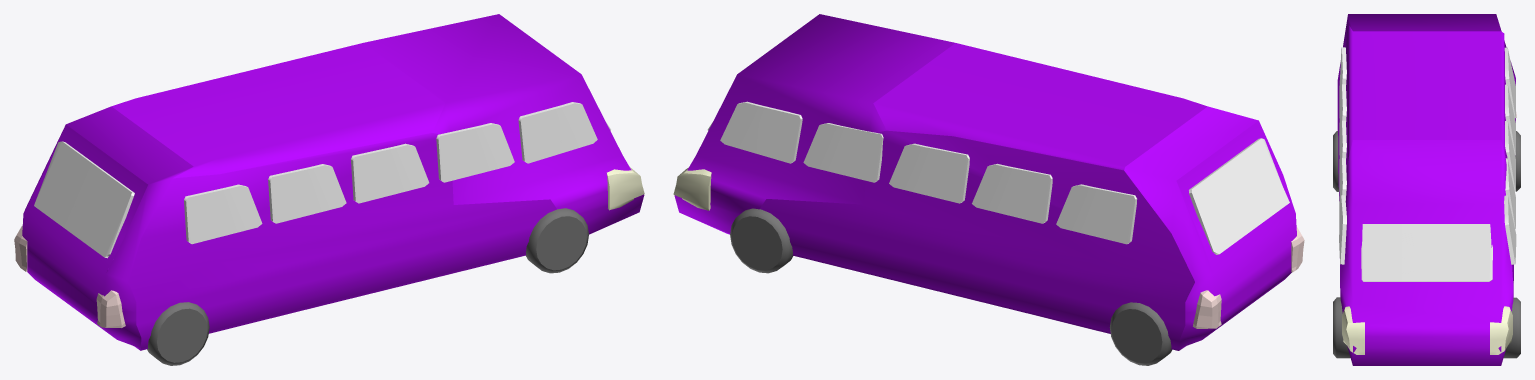
The model's file is CarroMorado.fbx.
3 renders of one model, left to right at view 1: azimuth 30°, elevation 25°; view 2: azimuth 150°, elevation 25°; view 3: azimuth 270°, elevation 25°, orthographic. The views are drawn at different scales.
Visible parts, largest first — view 1: pCube1, pCube10, pCube8, pCube13, pCube14, pCube12, pasted__pCube8, pCylinder1, pCylinder2, pCube11, pCube9; view 2: pCube1, pCube10, pasted__pasted__pCube12, pasted__pCube17, pasted__pCube15, pasted__pCube16, pasted__pCube12, pCylinder3, pCylinder4, pCube11, pCube9; view 3: pCube1, pCube6, pCube9, pCylinder1, pCylinder3, pasted__pasted__pCube12, pasted__pCube8, pasted__pCube17, pasted__pCube15, pasted__pCube16, pasted__pCube12, pCylinder2 (+5 smaller).
Boxes of the visible parts, x1,y1,x2,y2 form: pCube1: [22, 14, 644, 350]; pCube10: [34, 141, 134, 258]; pCube8: [436, 123, 514, 182]; pCube13: [268, 164, 346, 223]; pCube14: [184, 184, 262, 244]; pCube12: [351, 143, 429, 203]; pasted__pCube8: [518, 102, 597, 163]; pCylinder1: [526, 208, 588, 273]; pCylinder2: [147, 302, 209, 365]; pCube11: [14, 226, 125, 327]; pCube9: [606, 167, 644, 210]; pCube1: [674, 14, 1296, 350]; pCube10: [1189, 138, 1289, 254]; pasted__pasted__pCube12: [720, 101, 802, 163]; pasted__pCube17: [1056, 184, 1137, 244]; pasted__pCube15: [889, 143, 969, 203]; pasted__pCube16: [972, 163, 1052, 223]; pasted__pCube12: [803, 123, 883, 182]; pCylinder3: [730, 208, 793, 273]; pCylinder4: [1109, 302, 1172, 365]; pCube11: [1193, 227, 1304, 328]; pCube9: [673, 167, 711, 210]; pCube1: [1337, 14, 1515, 365]; pCube6: [1361, 224, 1492, 281]; pCube9: [1342, 306, 1512, 354]; pCylinder1: [1333, 297, 1350, 358]; pCylinder3: [1503, 297, 1520, 358]; pasted__pasted__pCube12: [1504, 195, 1516, 264]; pasted__pCube8: [1339, 195, 1346, 264]; pasted__pCube17: [1504, 47, 1515, 118]; pasted__pCube15: [1505, 120, 1515, 191]; pasted__pCube16: [1505, 84, 1515, 155]; pasted__pCube12: [1505, 158, 1515, 228]; pCylinder2: [1333, 131, 1338, 191].
Bounding box in the file's own units: 33.34 × 11.06 × 11.09.
